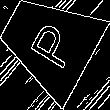P_NW: (19, 14, 77, 71)
